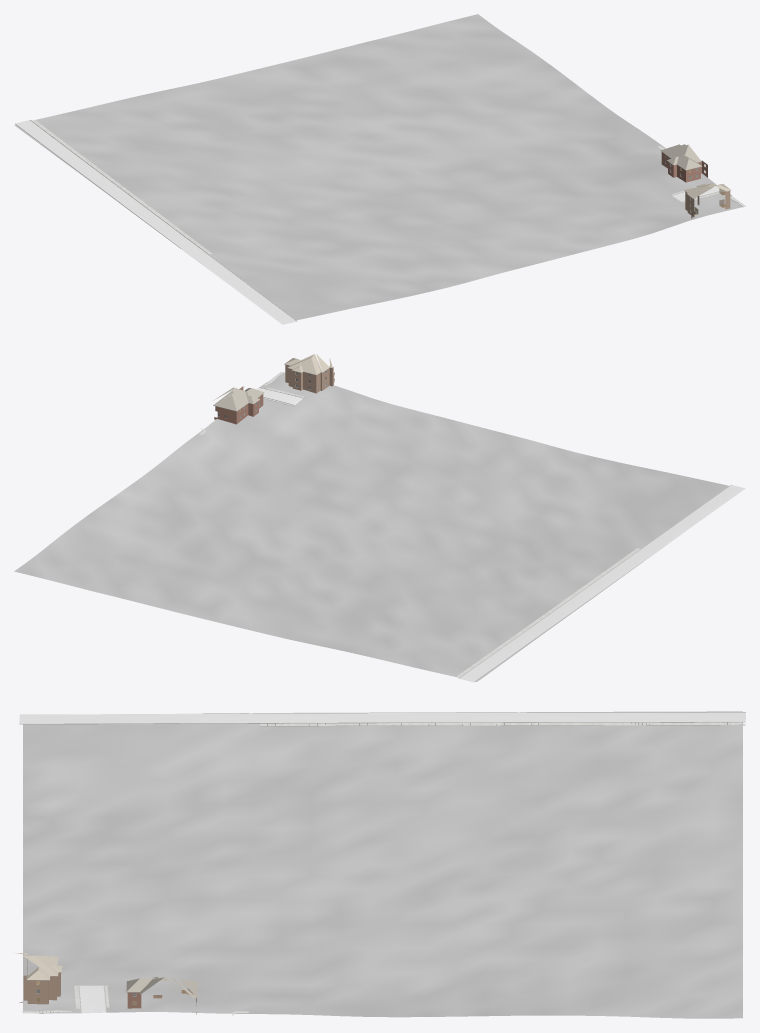
3 views of the same model, one above another, from view 1: azimuth 30°, elevation 25°; view 2: azimuth 150°, elevation 25°; view 3: azimuth 270°, elevation 25° (orthographic). The views are drawn at different scales.
Visible parts, largest first — view 1: ground, asphalt, roof, walk, wall, curb; view 2: ground, asphalt, wall, roof, walk, curb; view 3: ground, asphalt, curb, walk, roof, wall, concrete.
Boxes of the visible parts, x1,y1,x2,y2 form: ground: (14, 14, 745, 320); asphalt: (15, 120, 296, 324); roof: (661, 144, 730, 198); walk: (32, 120, 745, 254); wall: (661, 152, 730, 218); curb: (15, 120, 742, 321); ground: (14, 372, 728, 681); asphalt: (459, 485, 745, 682); wall: (214, 365, 334, 424); roof: (213, 354, 332, 411); walk: (199, 372, 640, 677); curb: (259, 373, 731, 681); ground: (23, 711, 742, 1018); asphalt: (19, 712, 745, 723); curb: (19, 712, 745, 1013); walk: (21, 722, 741, 1015); roof: (14, 952, 197, 998); wall: (19, 955, 196, 1014); concrete: (79, 985, 105, 1013).
Bounding box in the file's own units: 255 × 18.15 × 254.
